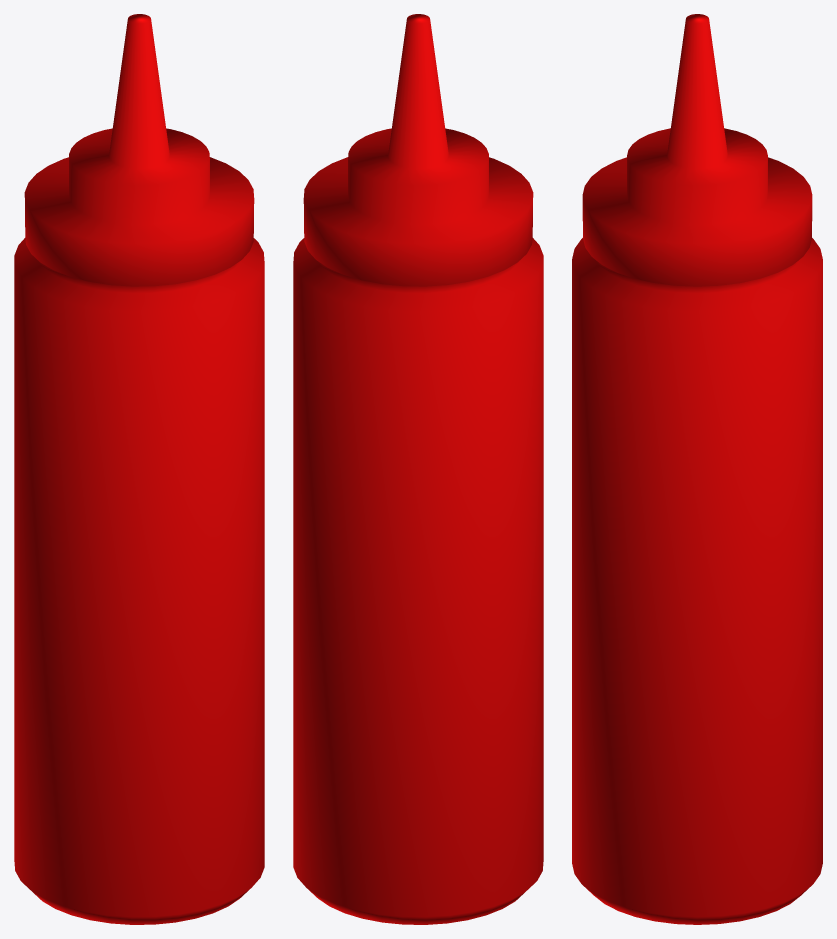
File: condiment_bottle.glb
3 renders of one model, left to right at view 1: azimuth 30°, elevation 25°; view 2: azimuth 150°, elevation 25°; view 3: azimuth 270°, elevation 25°, orthographic.
Visible parts, largest first — view 1: Cylinder; view 2: Cylinder; view 3: Cylinder.
Part boxes in pixels (x1=…): Cylinder: x1=14, y1=14, x2=264, y2=924; Cylinder: x1=293, y1=14, x2=543, y2=924; Cylinder: x1=572, y1=14, x2=822, y2=924.
Bounding box in the file's own units: 0.85 × 3.21 × 0.85.
